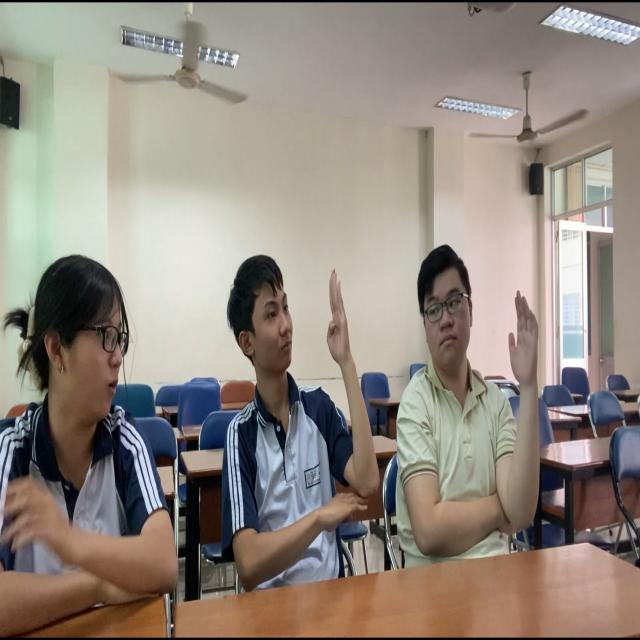raise_hand: (225, 234, 370, 600), (397, 240, 550, 545)
